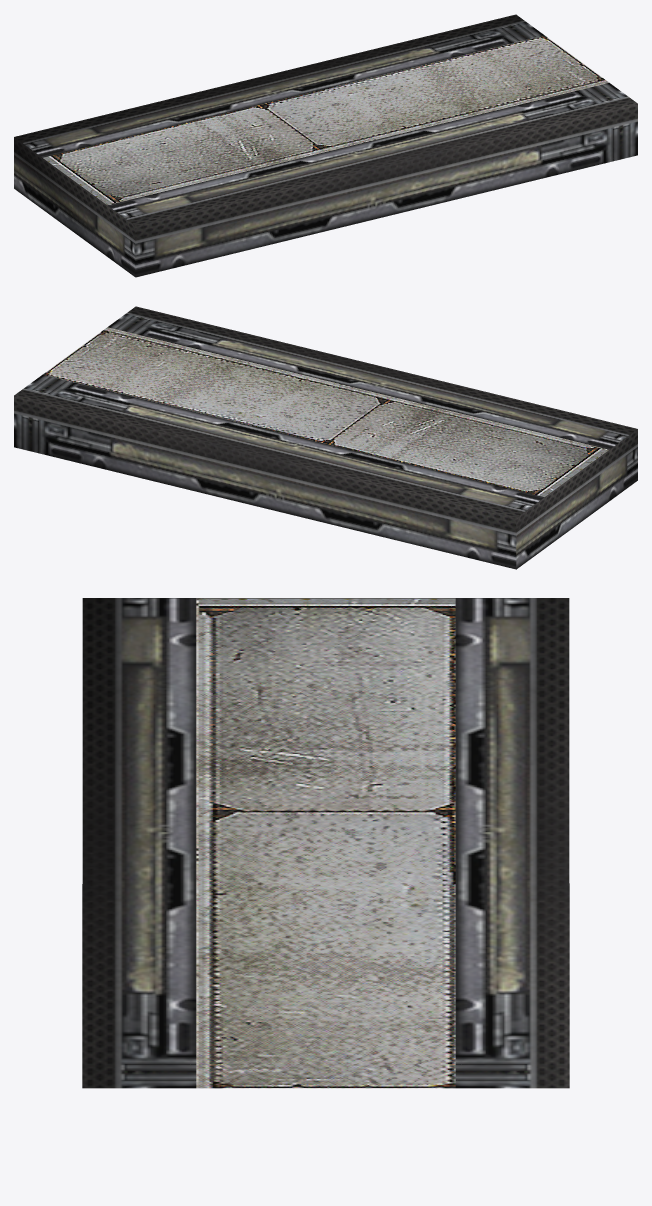
Rendered from PatchWall_C.fbx.
3 renders of one model, top to bottom at view 1: azimuth 30°, elevation 25°; view 2: azimuth 150°, elevation 25°; view 3: azimuth 270°, elevation 25°, orthographic. The views are drawn at different scales.
Visible parts, largest first — view 1: PatchWall_C; view 2: PatchWall_C; view 3: PatchWall_C.
Boxes of the visible parts, <box> form: PatchWall_C: <box>14,14,637,277</box>; PatchWall_C: <box>14,306,637,569</box>; PatchWall_C: <box>82,598,569,1088</box>.
Bounding box in the file's own units: 200 × 19.71 × 84.05.
